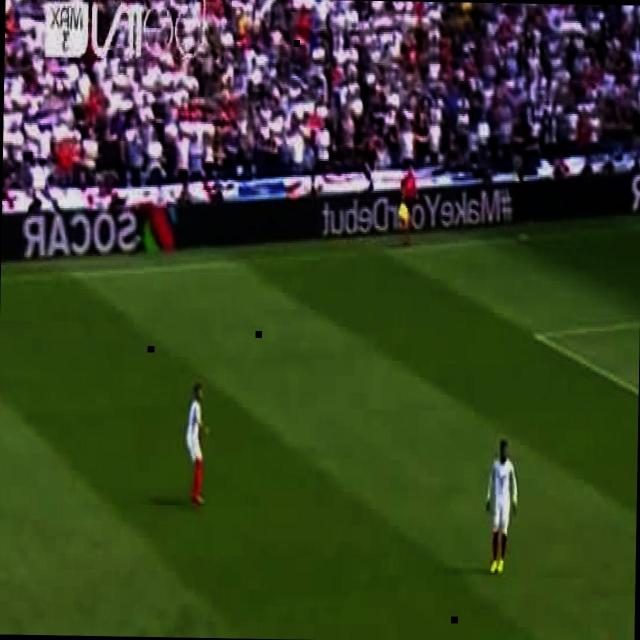player-white: (486, 440, 518, 576), (186, 384, 210, 506), (401, 164, 417, 246)
